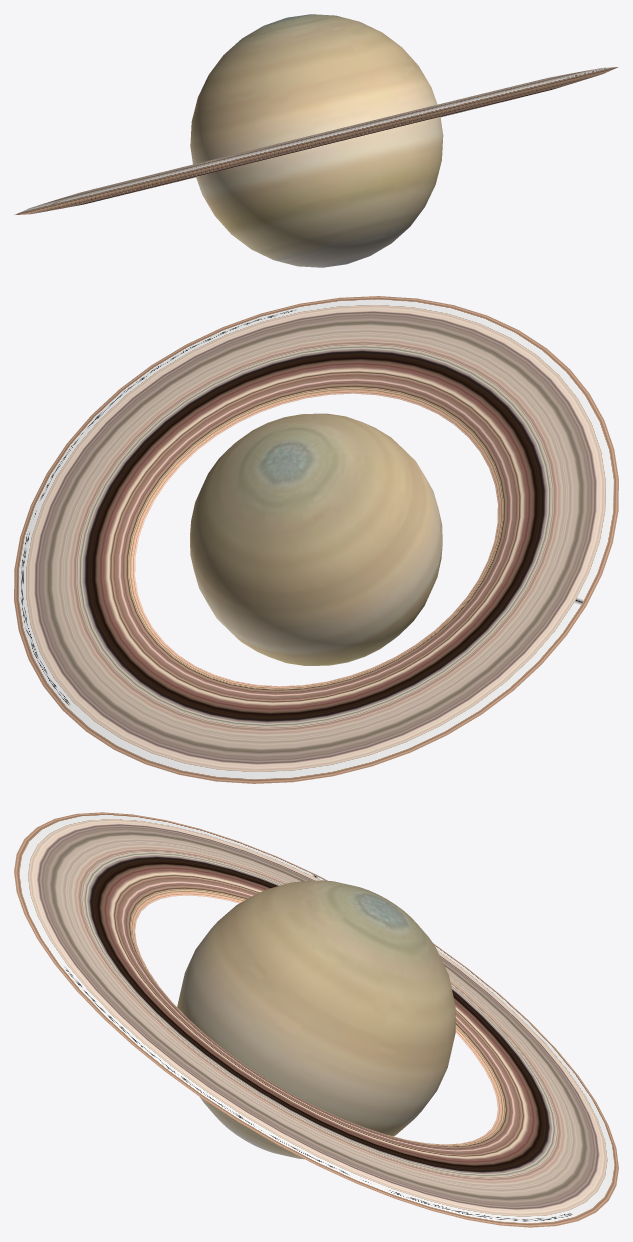
Rendered from saturn.gltf.
3 views of the same model, one above another, from view 1: azimuth 30°, elevation 25°; view 2: azimuth 150°, elevation 25°; view 3: azimuth 270°, elevation 25° (orthographic). The views are drawn at different scales.
Parts seen in each view (by area): view 1: SATURN; view 2: SATURN; view 3: SATURN.
Part boxes in pixels (bbox=[...]): SATURN: bbox=[15, 14, 618, 267]; SATURN: bbox=[14, 296, 618, 783]; SATURN: bbox=[14, 812, 618, 1227].
Size of the model in its own units: 8.97 by 4.27 by 7.89.
Materials: 2 (2 with a texture image).
